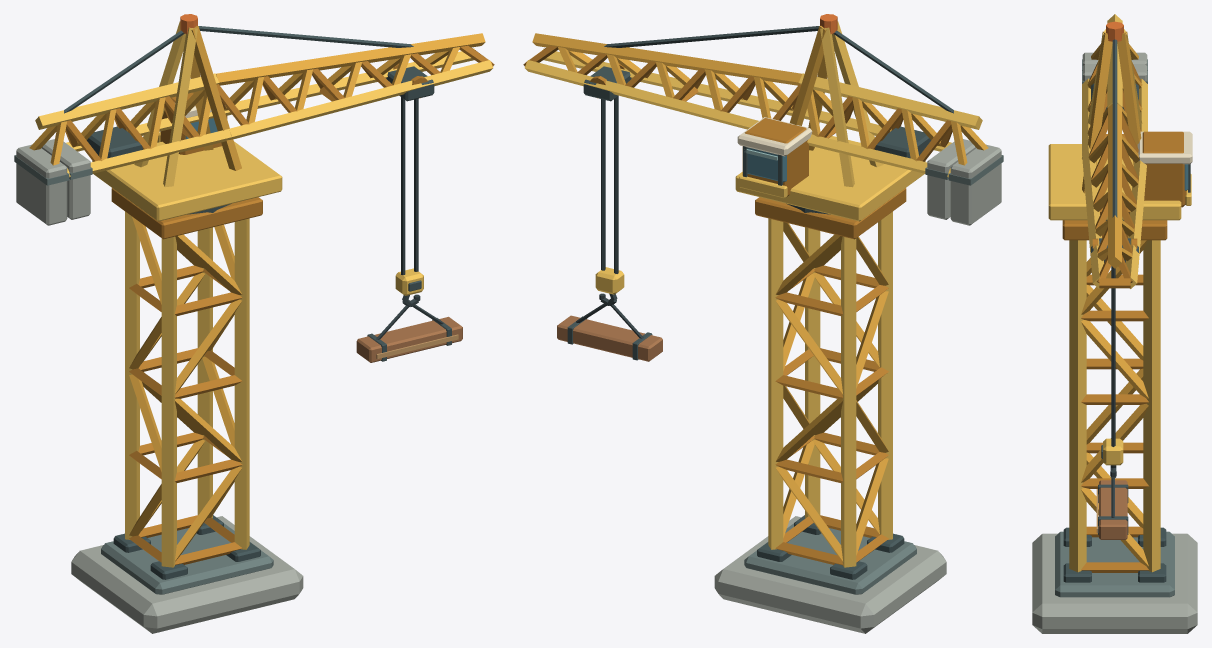
Rendered from finish_crane.glb.
3 views of the same model, side by side, from view 1: azimuth 30°, elevation 25°; view 2: azimuth 150°, elevation 25°; view 3: azimuth 270°, elevation 25° (orthographic).
Visible parts, largest first — view 1: TowerMast, Jib, HookBlock, HoistCable; view 2: TowerMast, Jib, HookBlock, HoistCable; view 3: TowerMast, Jib, HookBlock, HoistCable.
Part boxes in pixels (x1,y1,x2,y2): TowerMast: (71, 188, 303, 633); Jib: (14, 14, 494, 225); HookBlock: (356, 268, 462, 362); HoistCable: (401, 97, 418, 275); TowerMast: (714, 188, 946, 633); Jib: (523, 14, 1003, 225); HookBlock: (557, 267, 662, 361); HoistCable: (601, 96, 618, 273); TowerMast: (1032, 220, 1197, 633); Jib: (1048, 14, 1192, 288); HookBlock: (1096, 438, 1128, 539); HoistCable: (1111, 266, 1115, 446).
Bounding box in the file's own units: 2.43 × 2.91 × 0.76.
1 material, 1 textured.
